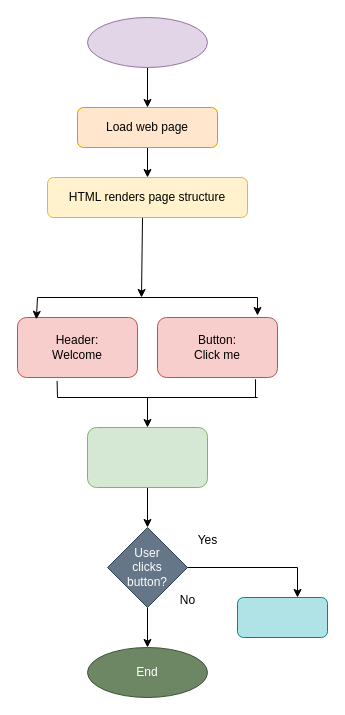
The diagram is 345 pixels wide and 715 high, and some of its shapes have lost their labels. Here are the shapes that lost their labels. From the top down, the centre of each, then its label:
(x=147, y=42): Start
(x=147, y=457): Apply CSS styling
(x=282, y=617): Run javascript function
